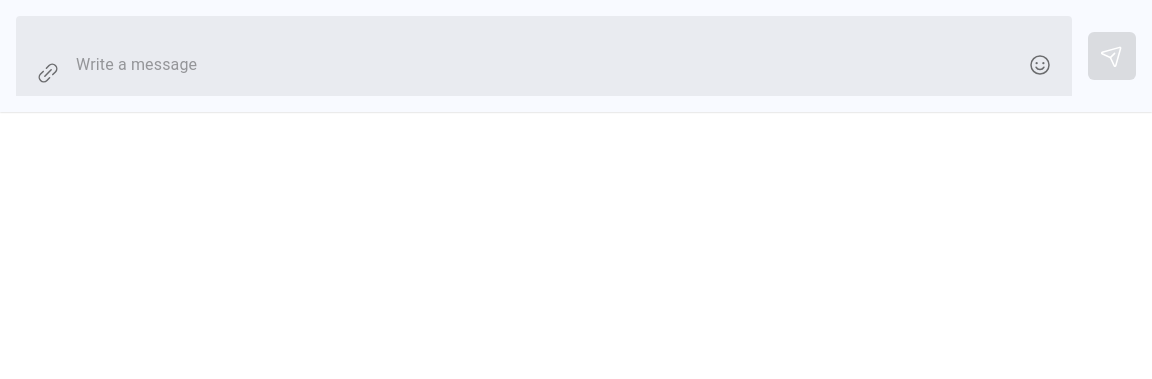
Test: conversation Footer › opens attachment menu with document, audio, sticker, and contact actions
The width and height of the screenshot is (1152, 379).
Click the button named "Open attachment options" at [48, 72], box [28,52,68,92]
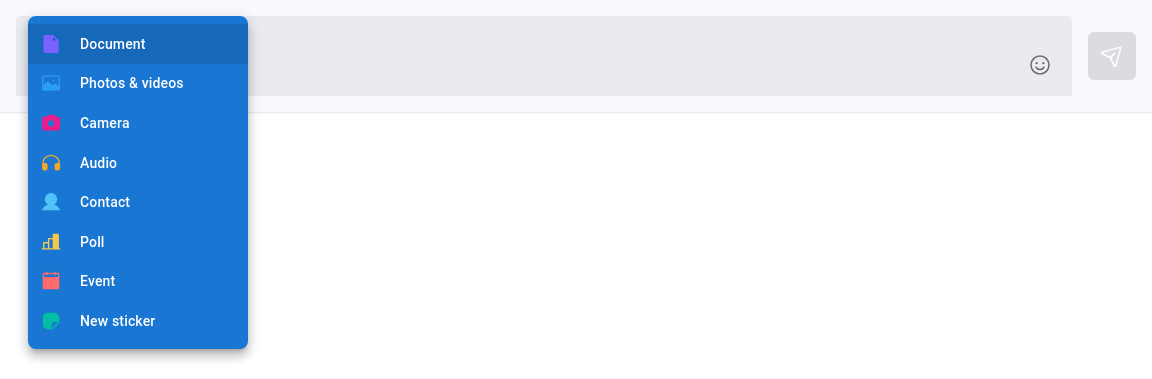
Now the menu item labelled "Document" is shown, box [28,24,248,64]
Now the menu item labelled "Audio" is shown, box [40,152,117,174]
Now the menu item labelled "Contact" is shown, box [40,191,130,213]
